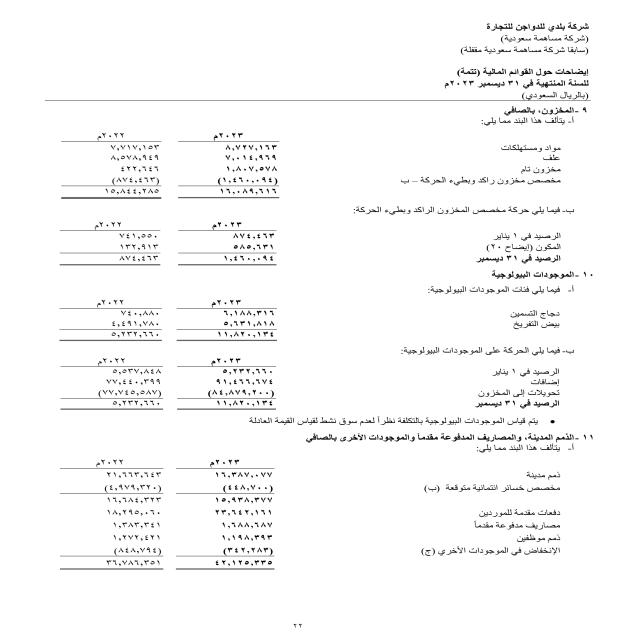notes: (451, 66, 596, 77)
table: (43, 117, 304, 412), (44, 452, 292, 580)
